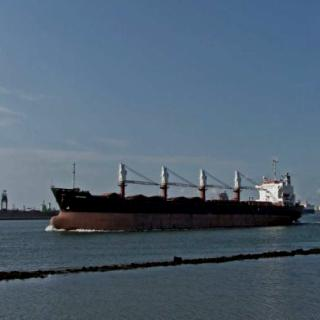Bulk Carrier: (33, 156, 319, 231)
